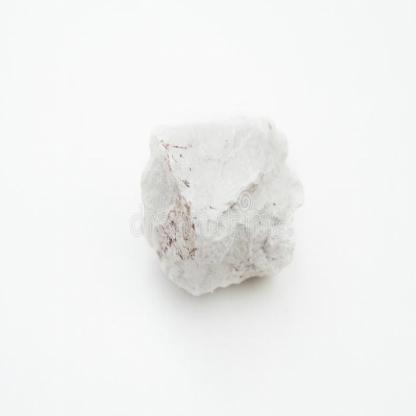Sedimentary_Chalk: (134, 106, 303, 298)
